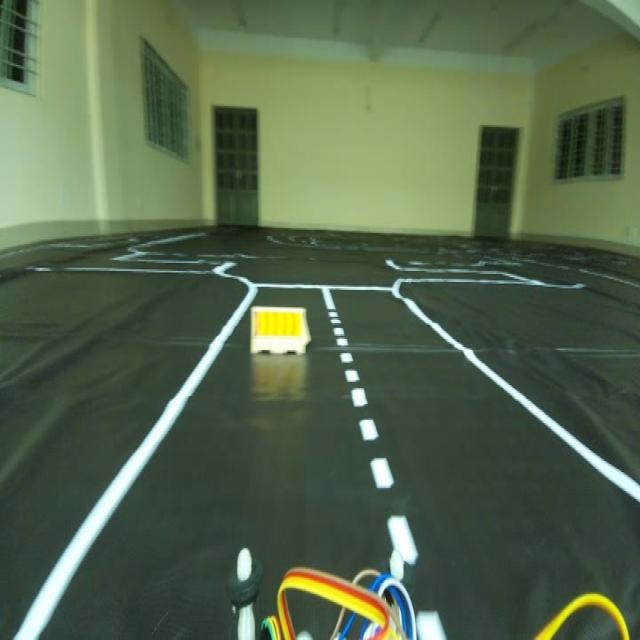roadblock: (247, 296, 309, 368)
